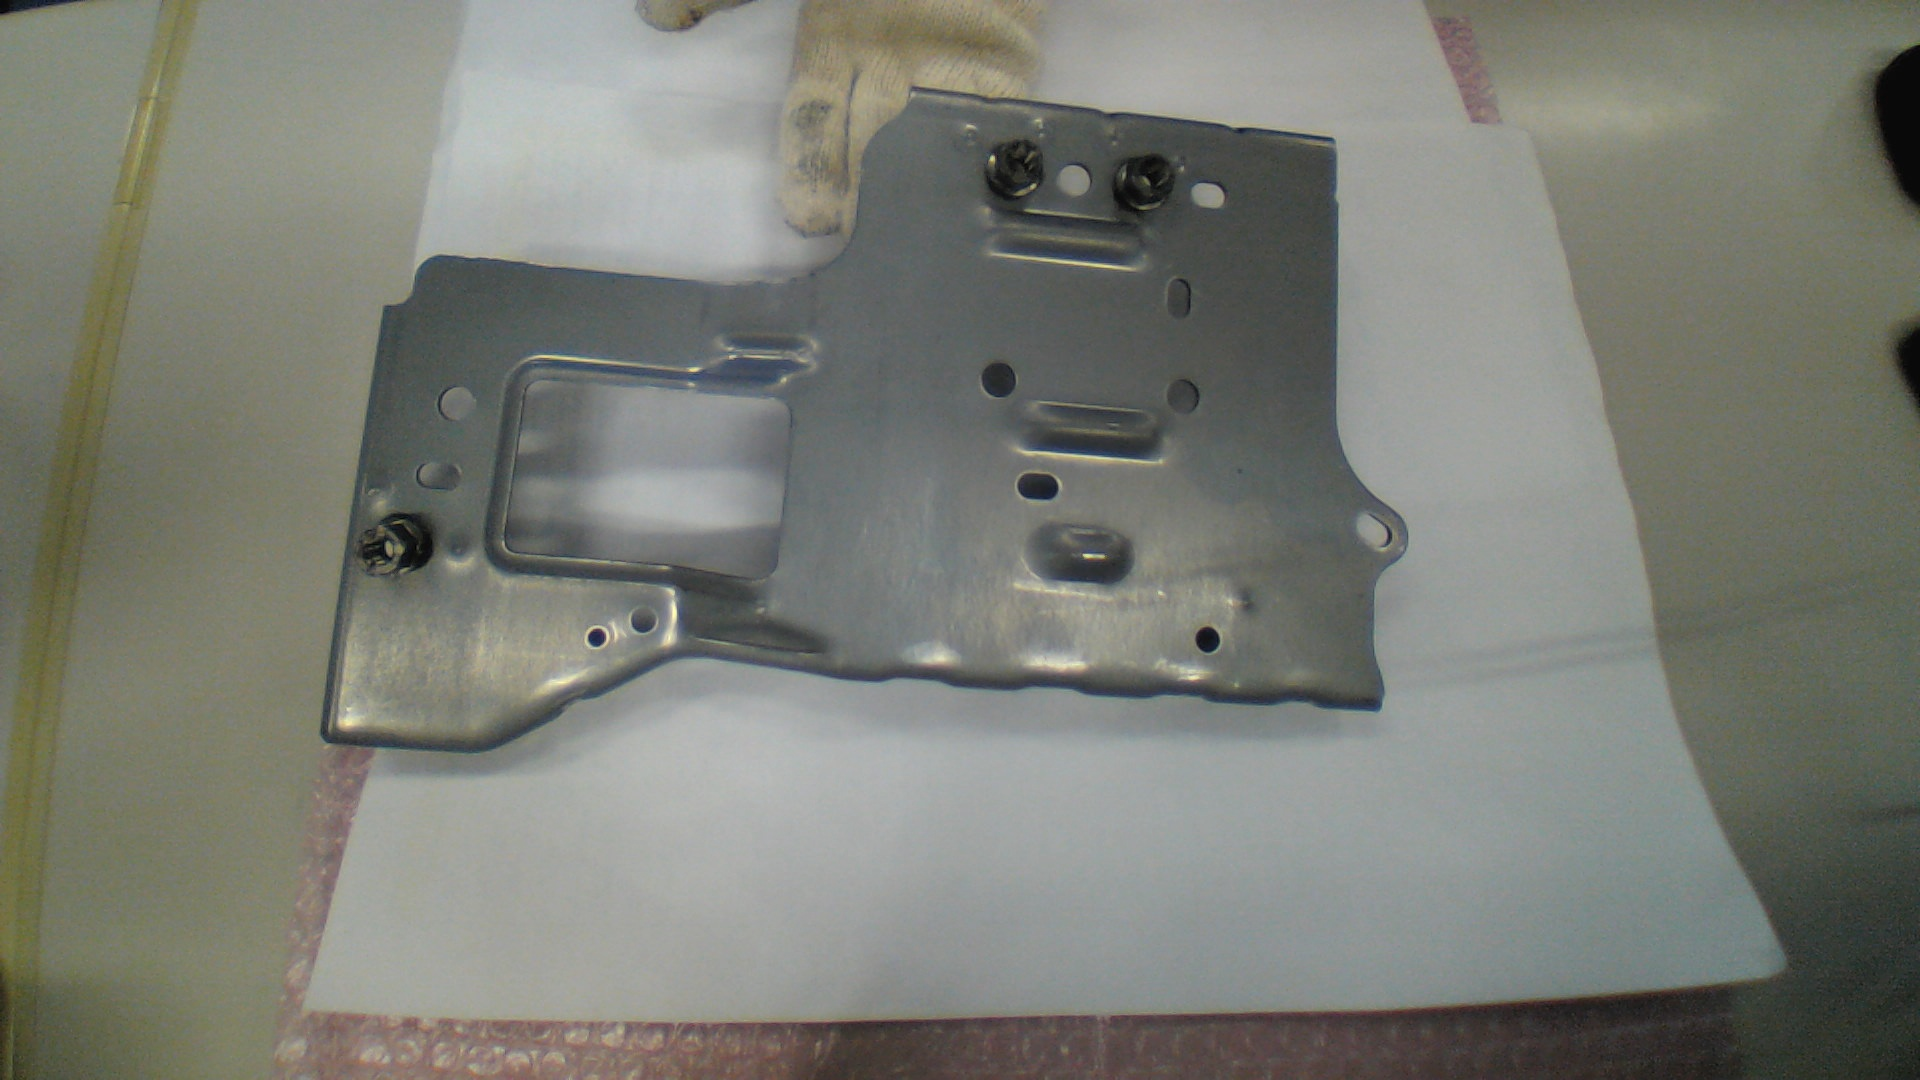dog: (353, 516, 435, 578), (984, 138, 1048, 202), (1114, 152, 1176, 211)
